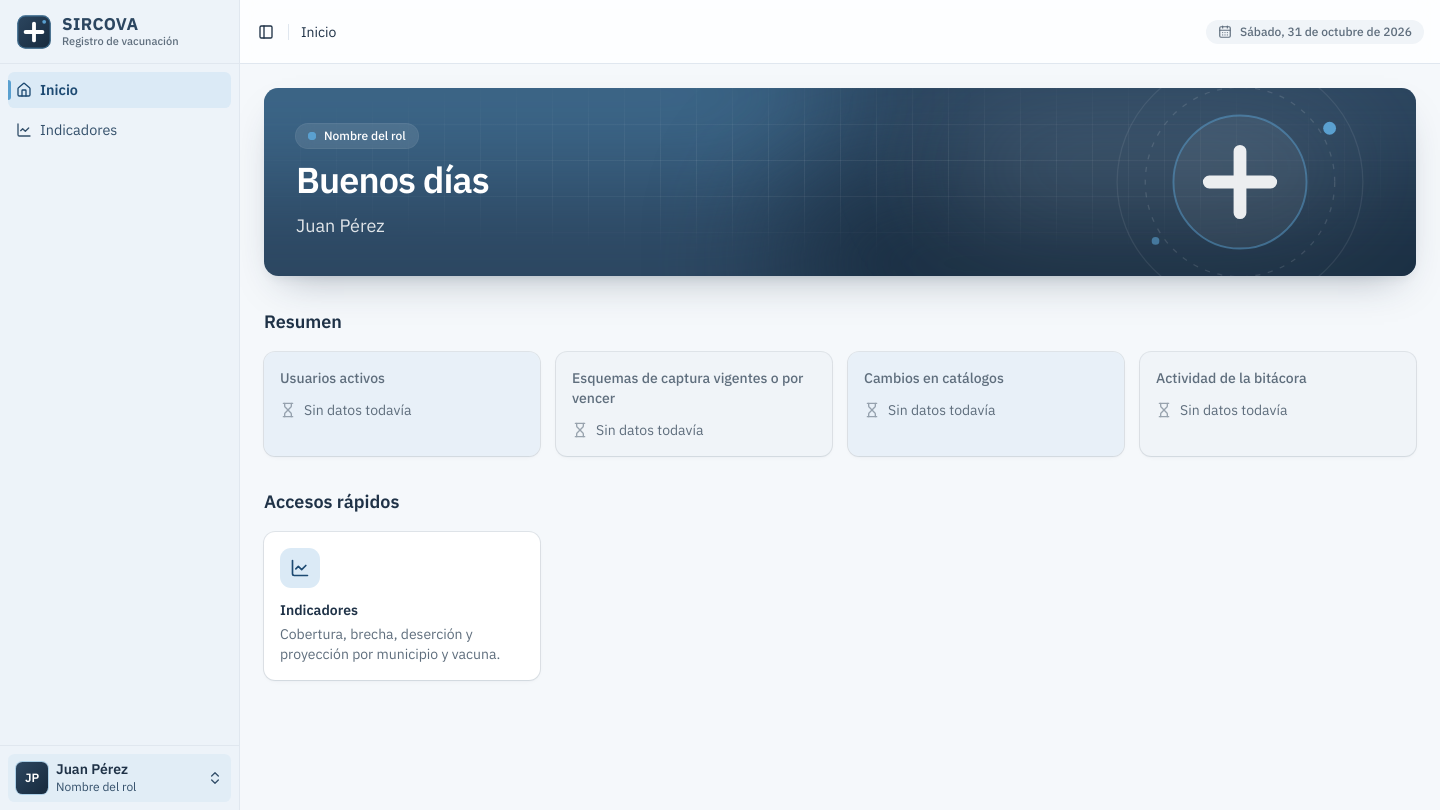
Test case: con INDICADOR_CONSULTAR aparece un acceso a Indicadores que lleva a /indicadores
Click the 6th link: (402, 606) [264, 532, 540, 680]
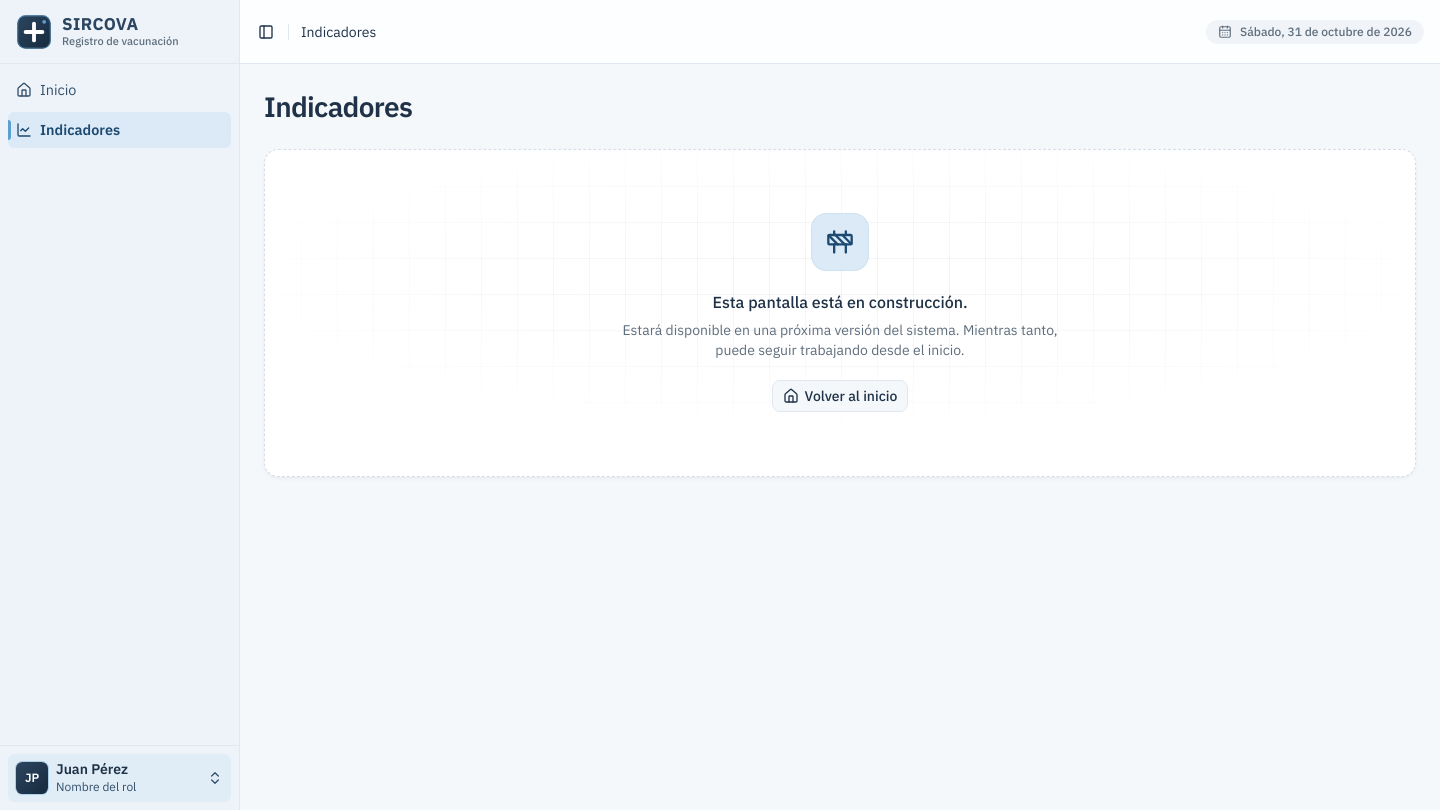
Result: the text "Esta pantalla está en construcción." is shown at [712, 292, 968, 312]
